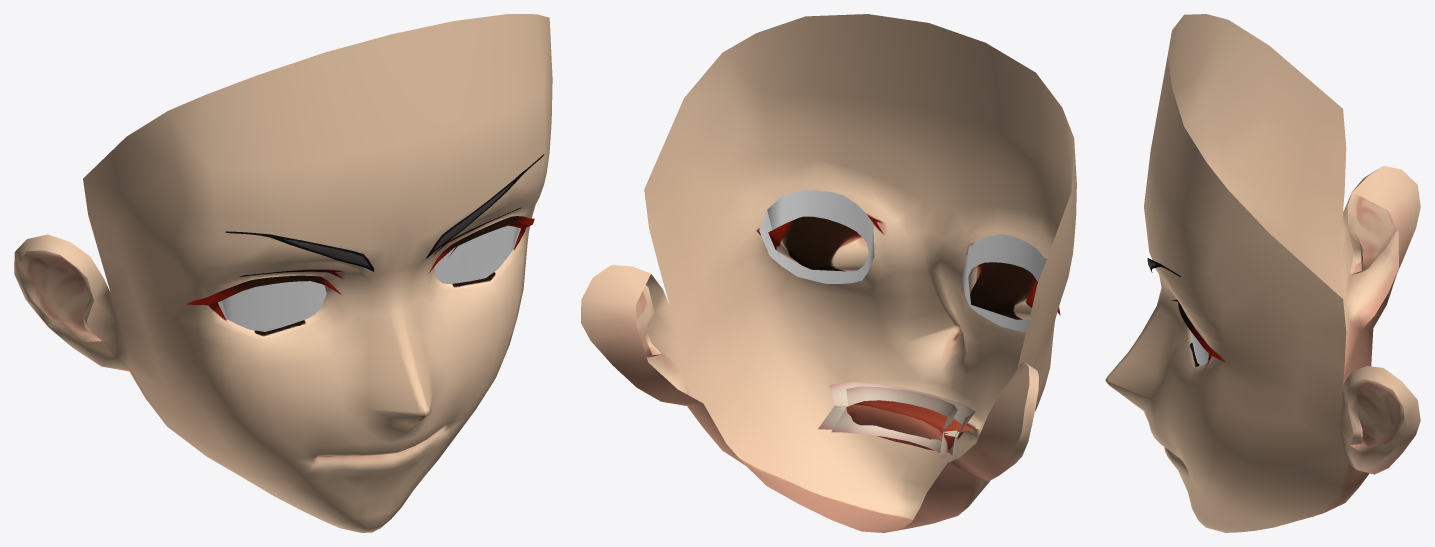
The model's file is Tetora.fbx.
The picture shows the model from 3 angles, left to right: view 1: azimuth 30°, elevation 25°; view 2: azimuth 150°, elevation 25°; view 3: azimuth 270°, elevation 25°; orthographic projection. The views are drawn at different scales.
Visible parts, largest first — view 1: M_Head, M_Eye_B_Def, M_Mth_B_Def, M_PupALL_R_A_Def, M_PupALL_L_A_Def, M_Brw_B_Def; view 2: M_Head, M_Eye_B_Def, M_Mth_B_Def, M_PupALL_L_A_Def, M_PupALL_R_A_Def; view 3: M_Head, M_Eye_B_Def, M_Mth_B_Def.
Part boxes in pixels (left/top/right/bottom): M_Head: left=14, top=14, right=552, bottom=403; M_Eye_B_Def: left=135, top=121, right=551, bottom=418; M_Mth_B_Def: left=129, top=348, right=508, bottom=532; M_PupALL_R_A_Def: left=218, top=281, right=326, bottom=331; M_PupALL_L_A_Def: left=434, top=225, right=520, bottom=283; M_Brw_B_Def: left=225, top=154, right=544, bottom=271; M_Head: left=581, top=14, right=1076, bottom=481; M_Eye_B_Def: left=692, top=130, right=1075, bottom=410; M_Mth_B_Def: left=687, top=327, right=1035, bottom=532; M_PupALL_L_A_Def: left=759, top=190, right=874, bottom=283; M_PupALL_R_A_Def: left=962, top=234, right=1046, bottom=332; M_Head: left=1144, top=14, right=1420, bottom=474; M_Eye_B_Def: left=1105, top=104, right=1263, bottom=455; M_Mth_B_Def: left=1106, top=319, right=1373, bottom=532.
Bounding box in the file's own units: 0.1737 × 0.1757 × 0.1062.
5 materials, 3 textured.
